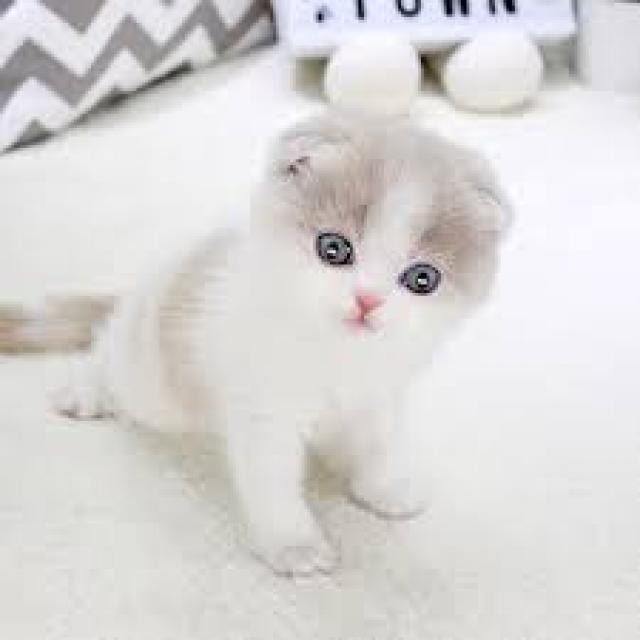cat-face: (195, 95, 585, 389)
